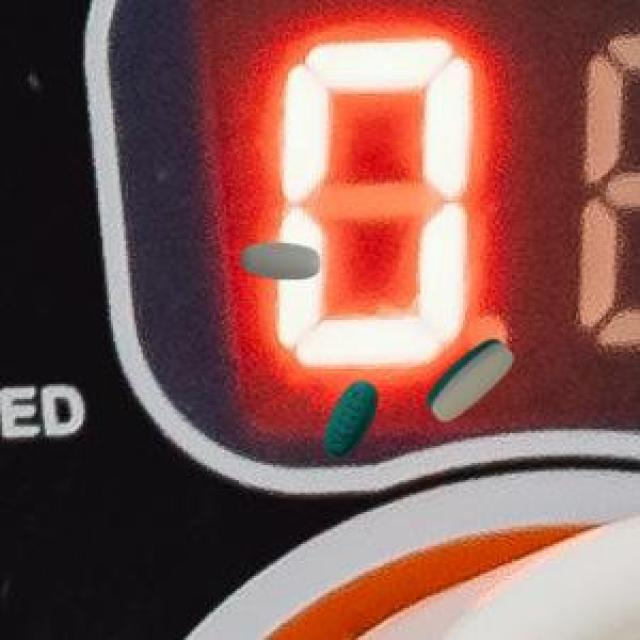Neozep: (416, 325, 524, 437), (309, 368, 388, 468), (224, 223, 326, 300)
